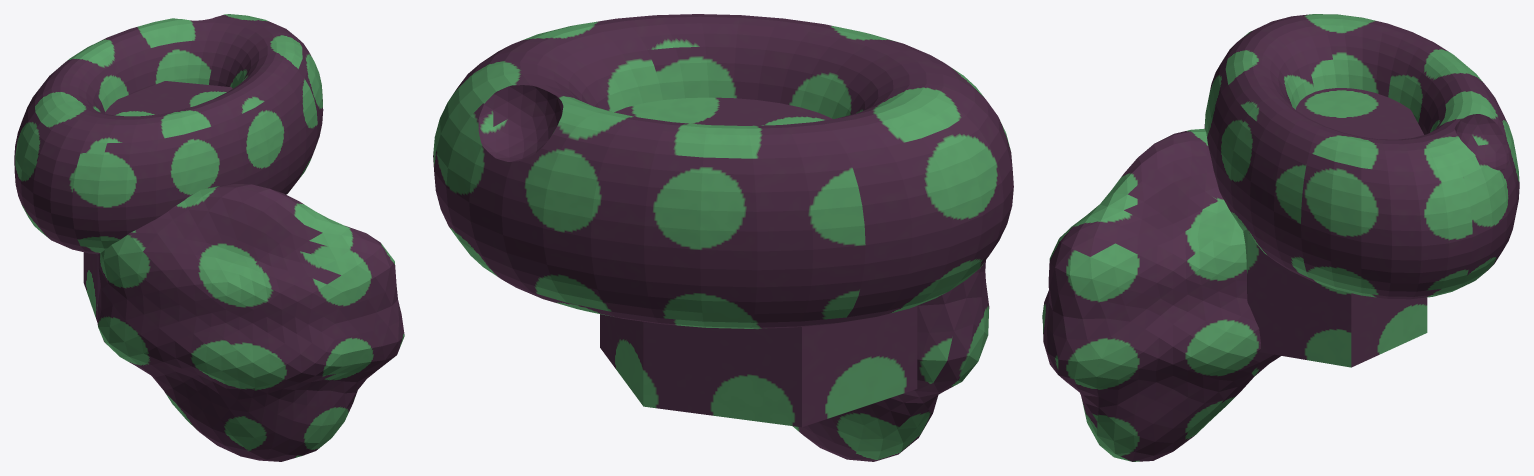
3 renders of one model, left to right at view 1: azimuth 30°, elevation 25°; view 2: azimuth 150°, elevation 25°; view 3: azimuth 270°, elevation 25°, orthographic. The views are drawn at different scales.
Visible parts, largest first — view 1: geometry_0; view 2: geometry_0; view 3: geometry_0.
Part boxes in pixels (x1,y1,x2,y2): geometry_0: (14, 14, 404, 461); geometry_0: (433, 14, 1013, 461); geometry_0: (1042, 14, 1519, 461).
Size of the model in its own units: 1.36 by 1.3 by 1.53.
1 material, 1 textured.
